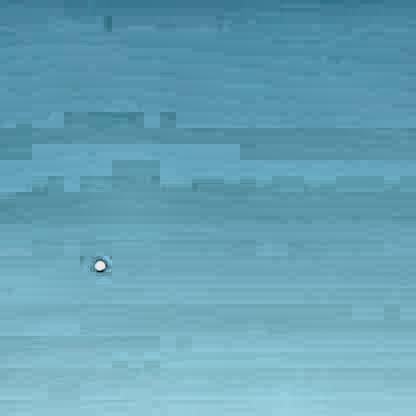golfball: (92, 255, 106, 270)
